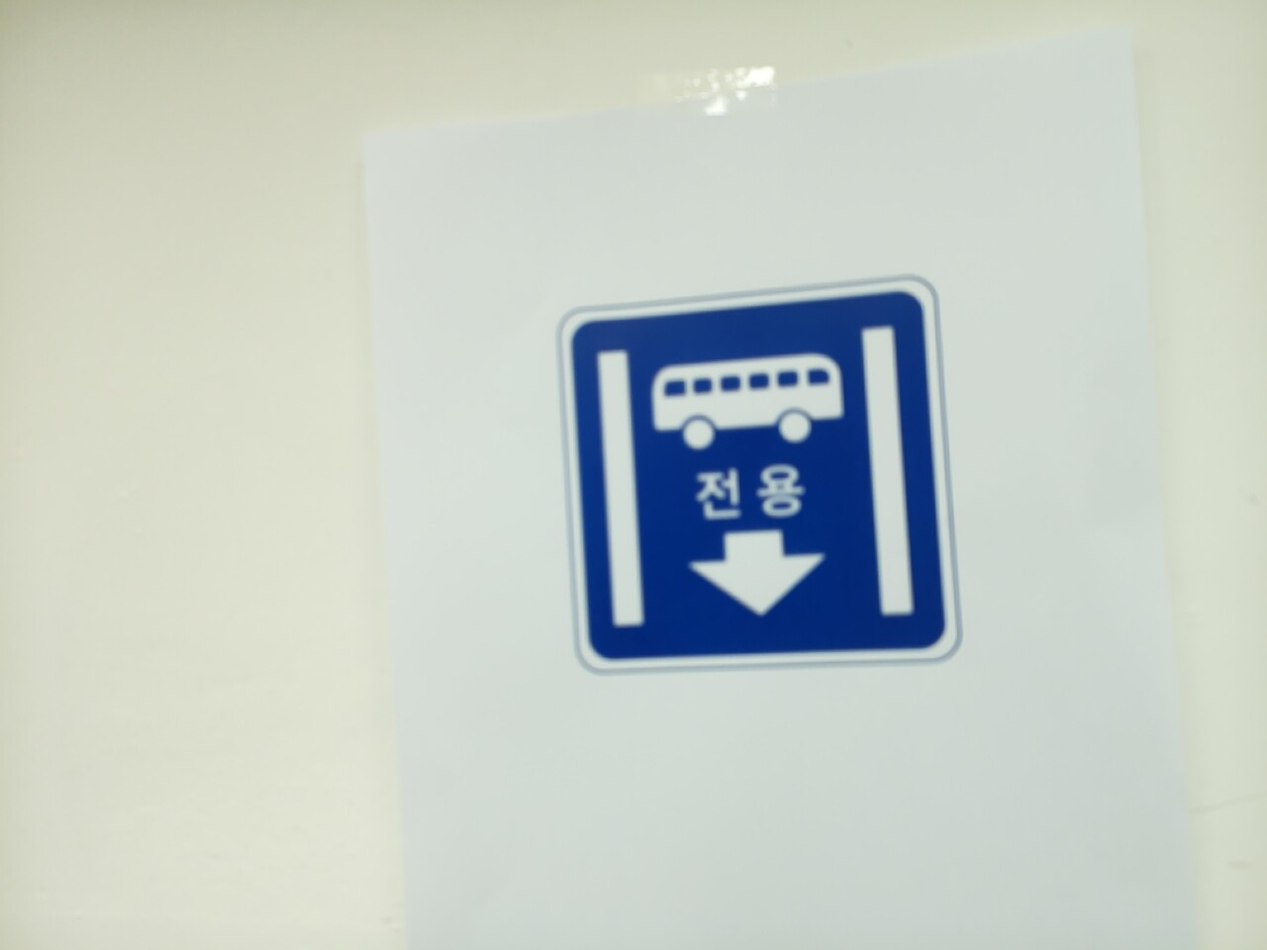bus_only_lane: (560, 280, 956, 670)
